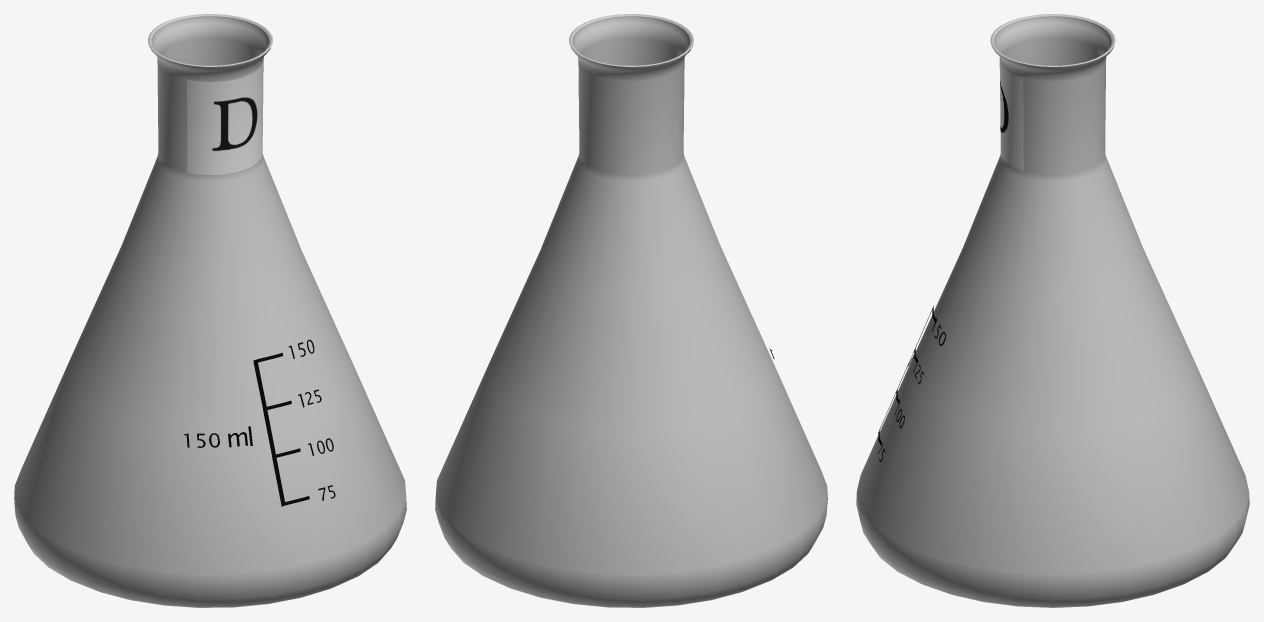
The model's file is conical_flask_D.fbx.
3 views of the same model, side by side, from view 1: azimuth 30°, elevation 25°; view 2: azimuth 150°, elevation 25°; view 3: azimuth 270°, elevation 25° (orthographic).
Parts seen in each view (by area): view 1: conical beaker.003, sticker.003, Plane.004; view 2: conical beaker.003; view 3: conical beaker.003, sticker.003.
Boxes of the visible parts, bbox=[...] form: conical beaker.003: bbox=[14, 14, 406, 607]; sticker.003: bbox=[187, 61, 263, 174]; Plane.004: bbox=[253, 353, 309, 506]; conical beaker.003: bbox=[435, 14, 827, 607]; conical beaker.003: bbox=[856, 14, 1249, 607]; sticker.003: bbox=[999, 59, 1023, 171].
Size of the model in its own units: 12.72 by 17.6 by 12.72.
